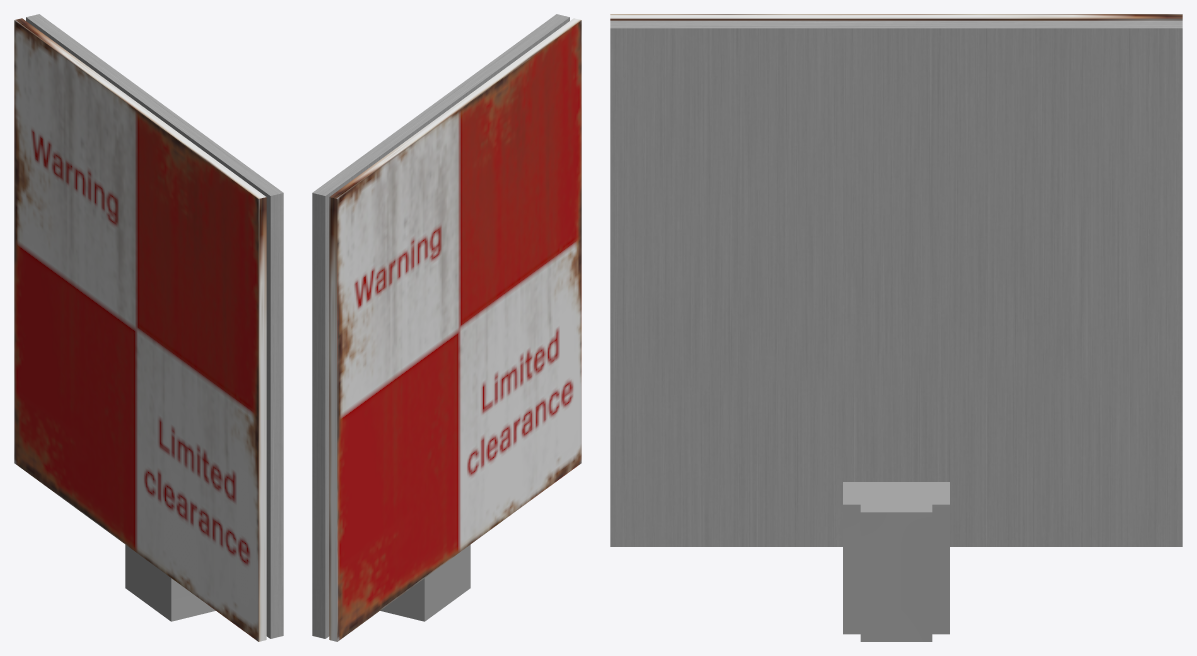
Rendered from limited_clearance_rusty_medium.obj.
3 renders of one model, left to right at view 1: azimuth 30°, elevation 25°; view 2: azimuth 150°, elevation 25°; view 3: azimuth 270°, elevation 25°, orthographic. The views are drawn at different scales.
Visible parts, largest first — view 1: cube; view 2: cube; view 3: cube.
Part boxes in pixels (bbox=[...]): cube: bbox=[14, 14, 283, 641]; cube: bbox=[312, 14, 581, 641]; cube: bbox=[610, 14, 1182, 641].
Bounding box in the file's own units: 0.0922 × 0.5625 × 0.5.
2 materials, 2 textured.
